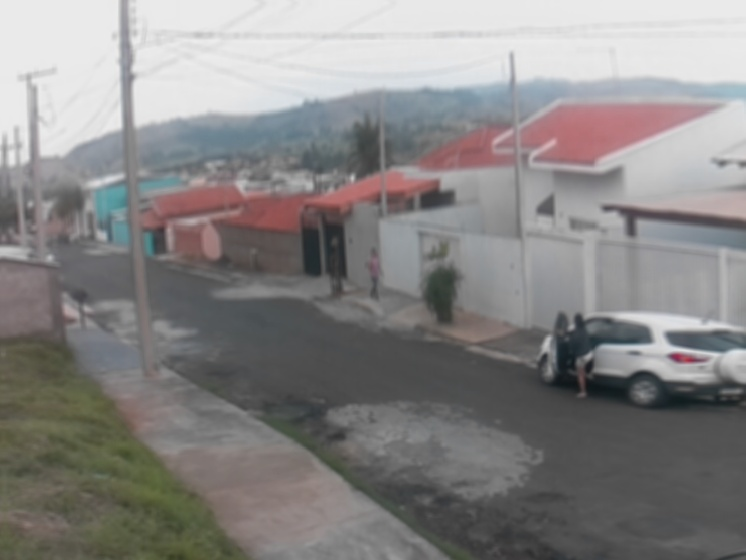person: (553, 311, 597, 400), (365, 246, 385, 302)
